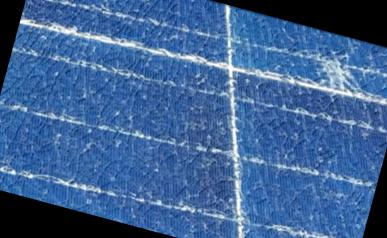Crack: (295, 41, 373, 108), (61, 0, 121, 17)
